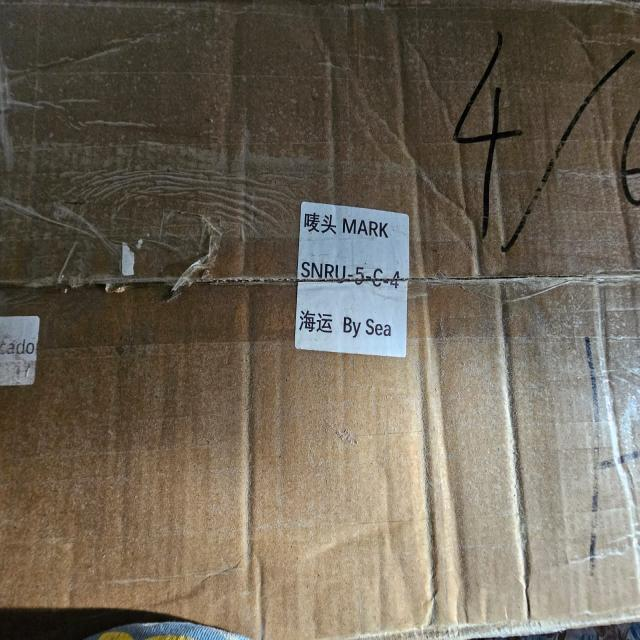carton_box: (0, 0, 640, 640)
export_mark_label: (288, 184, 427, 360)
package_damage: (0, 216, 282, 324)
